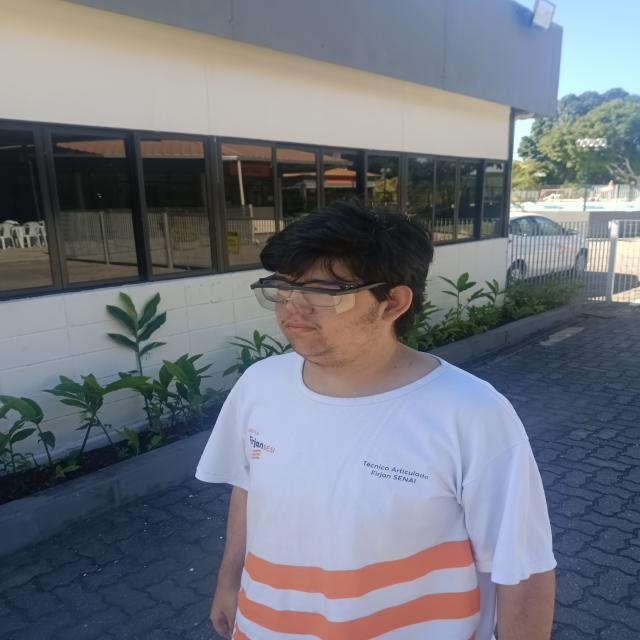oculos-epi: (251, 276, 386, 316)
